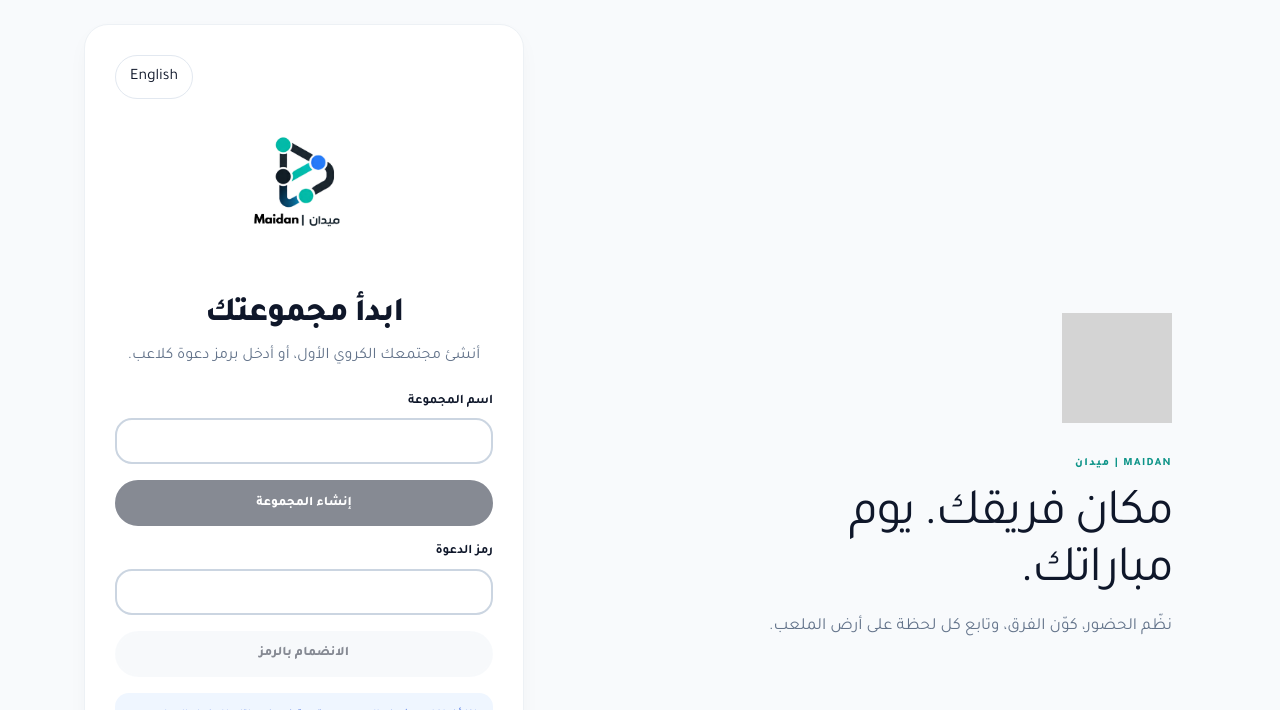
moves a new user from onboarding to their new group and profile
The image size is (1280, 710).
Expected: the heading "ابدأ مجموعتك" is shown, x1=205 y1=298 x2=403 y2=332
Expected: the button "إنشاء المجموعة" is disabled, x1=115 y1=480 x2=493 y2=526
Type "  Fixture Group  " into the field labelled "اسم المجموعة".
click(304, 441); type("  Fixture Group  ")  # box x1=115 y1=418 x2=493 y2=464
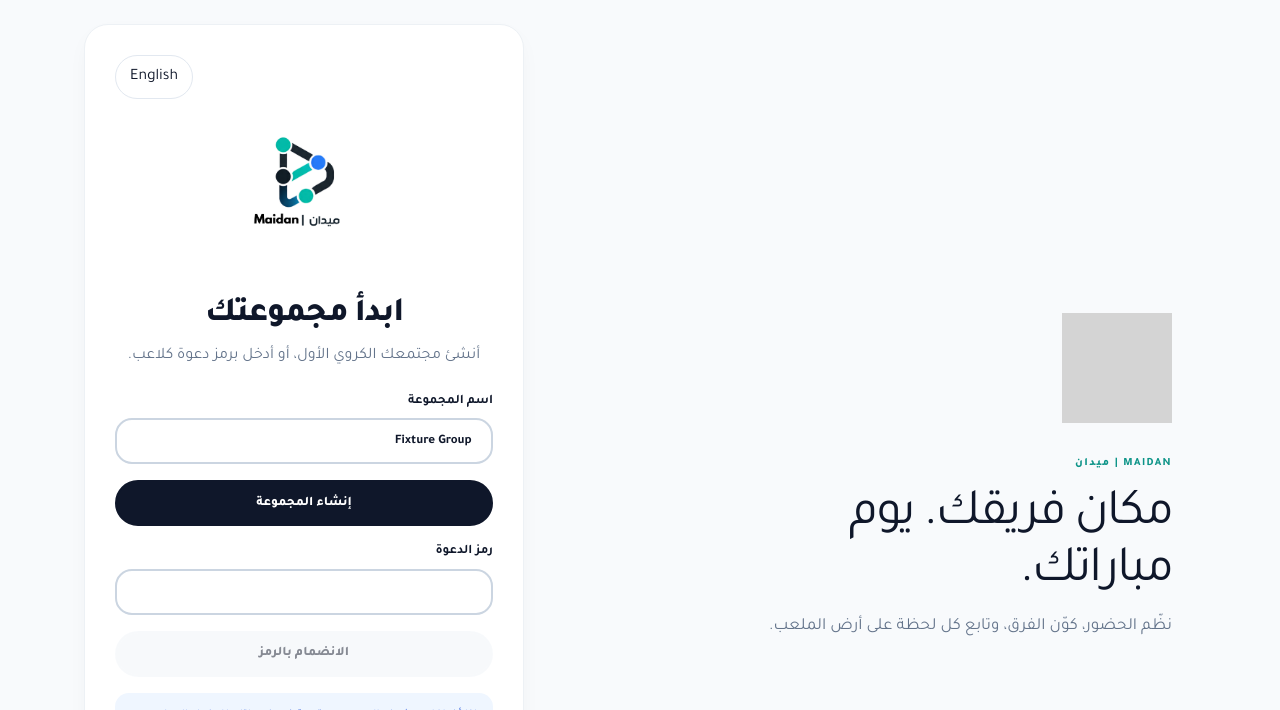
Click the button "إنشاء المجموعة".
click(304, 503)  # box x1=115 y1=480 x2=493 y2=526
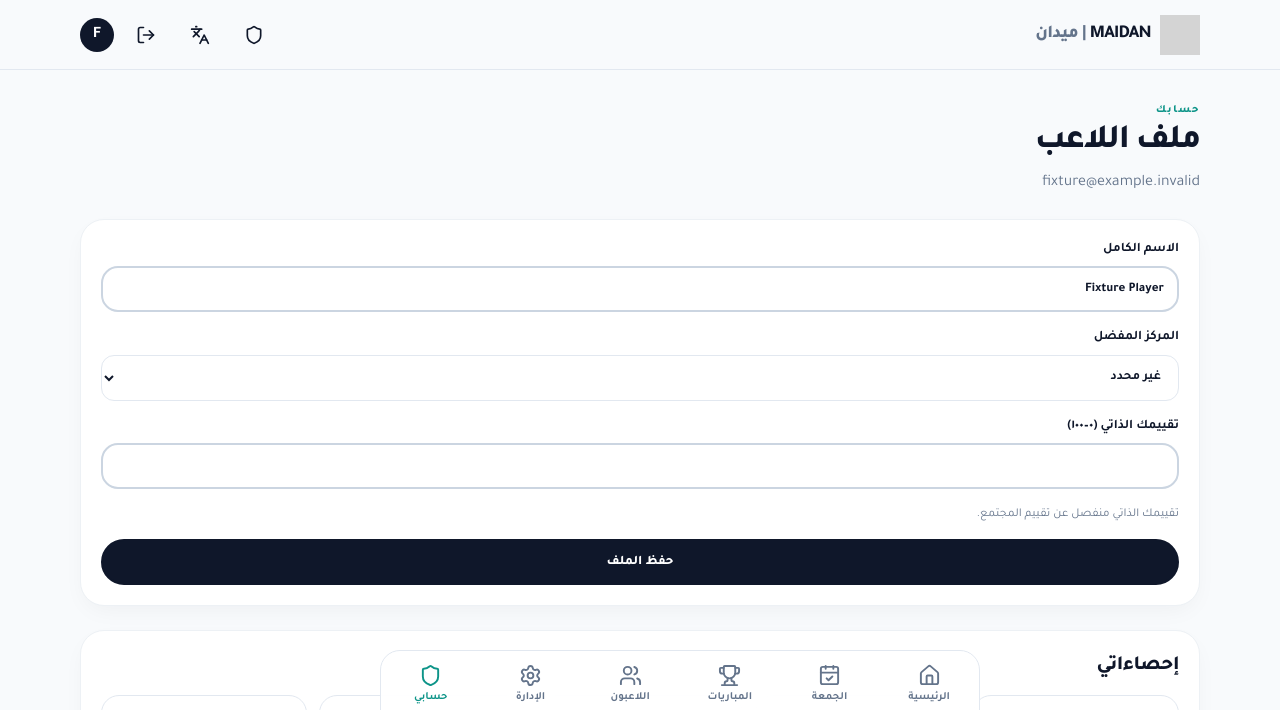
Expected: the heading "ملف اللاعب" is shown, x1=1035 y1=125 x2=1200 y2=159
Expected: the link named "لوحة الإدارة" is shown, x1=244 y1=24 x2=264 y2=44
